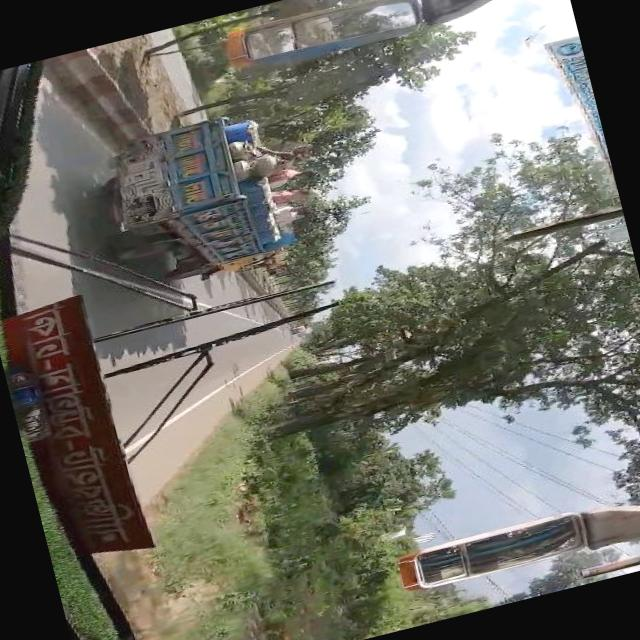truck: (86, 104, 304, 302), (264, 249, 304, 280)
